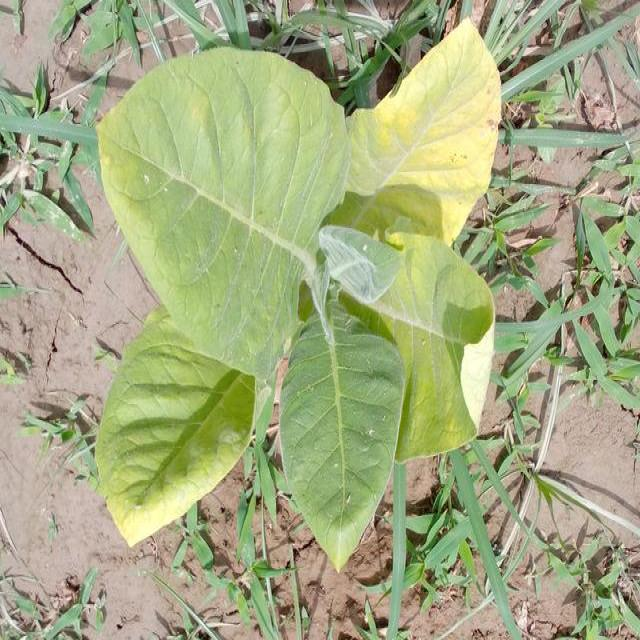crop: (95, 42, 512, 559)
